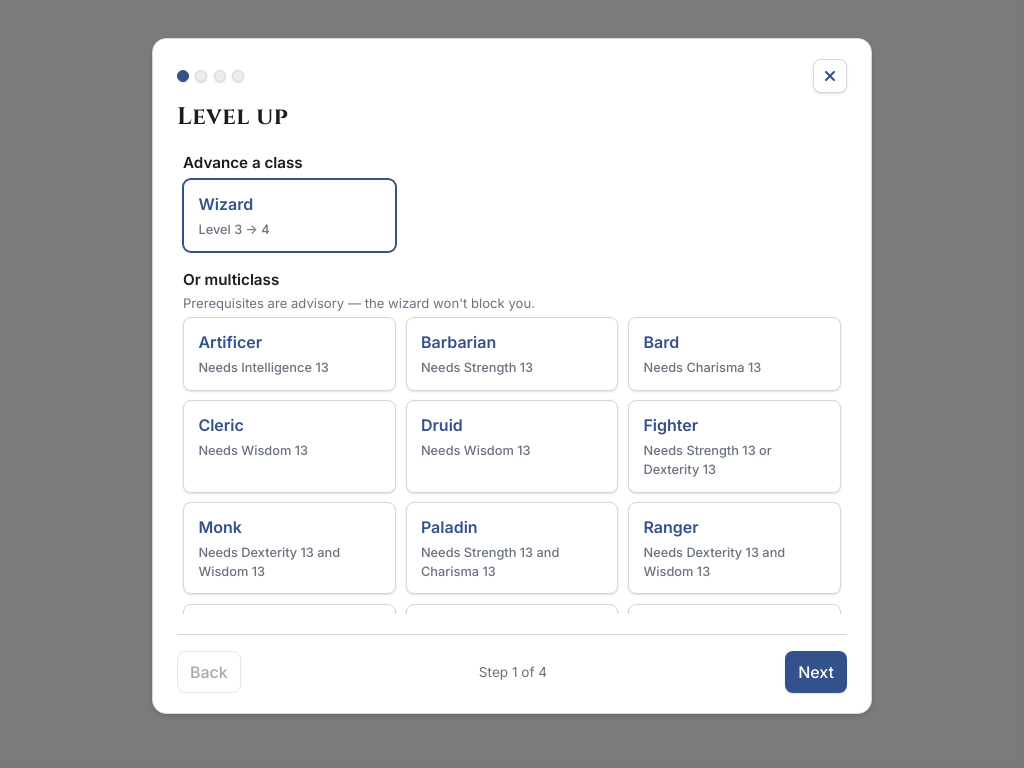
Scenario: LevelUpWizard step routing › shows the ASI step only on an ASI level
Click the button "Next" at (816, 672), box 785,651 -> 847,693
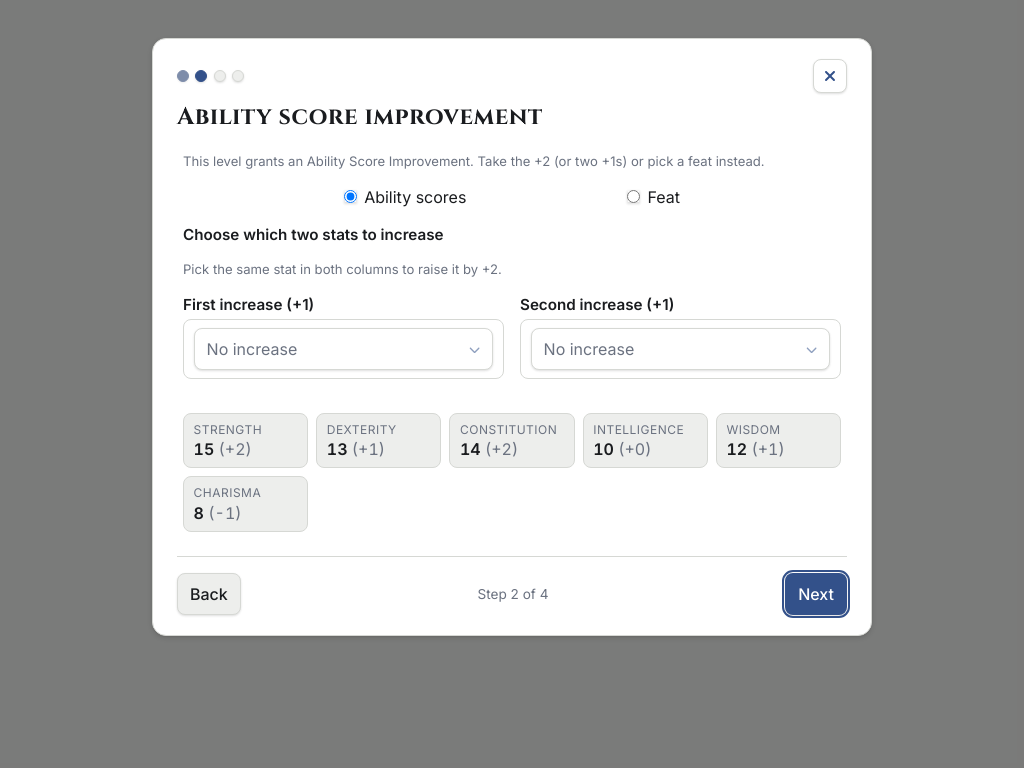
Result: the heading "Ability score improvement" is shown at 177,101 -> 543,133
